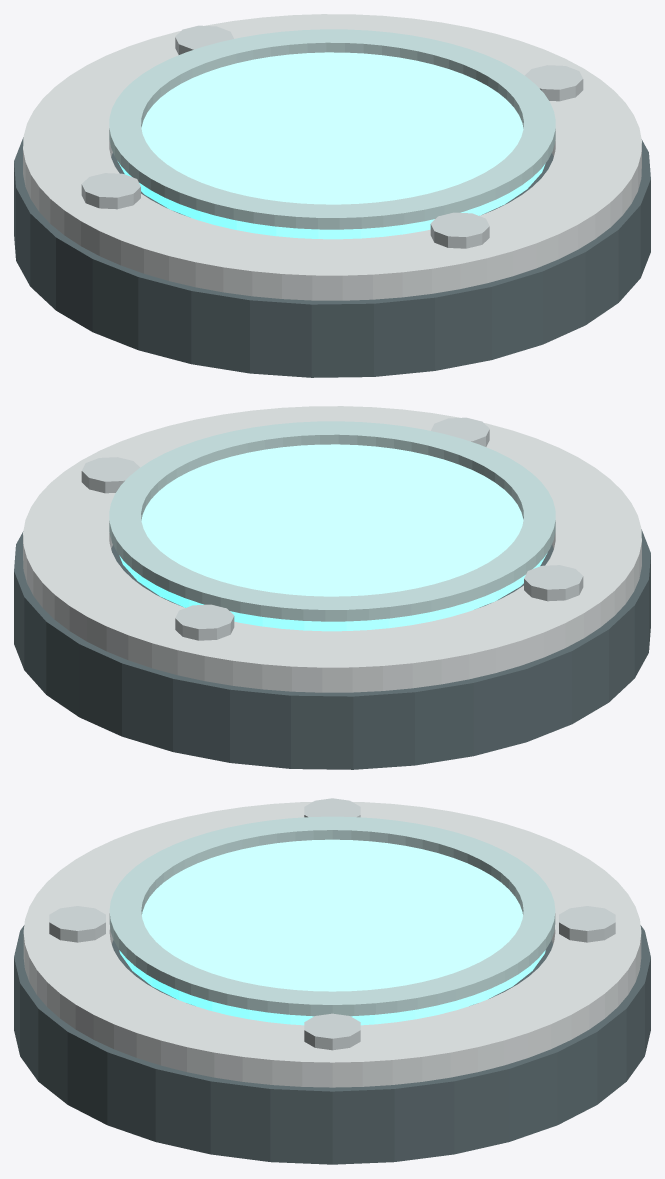
The model's file is s7-lf2-recessed-puck-small.glb.
3 renders of one model, top to bottom at view 1: azimuth 30°, elevation 25°; view 2: azimuth 150°, elevation 25°; view 3: azimuth 270°, elevation 25°, orthographic.
Visible parts, largest first — view 1: 001_annular_chrome_recess, 000_embedded_lowprofile_chassis, 002_top_emitter_glow, 003_diffuser_rim, 006_flush_mount_screw, 005_flush_mount_screw, 004_flush_mount_screw, 007_flush_mount_screw; view 2: 001_annular_chrome_recess, 000_embedded_lowprofile_chassis, 002_top_emitter_glow, 003_diffuser_rim, 006_flush_mount_screw, 007_flush_mount_screw, 004_flush_mount_screw, 005_flush_mount_screw; view 3: 001_annular_chrome_recess, 000_embedded_lowprofile_chassis, 002_top_emitter_glow, 003_diffuser_rim, 004_flush_mount_screw, 005_flush_mount_screw, 007_flush_mount_screw, 006_flush_mount_screw.
Boxes of the visible parts, <box> form: 001_annular_chrome_recess: <box>23,14,641,300</box>; 000_embedded_lowprofile_chassis: <box>14,137,650,377</box>; 002_top_emitter_glow: <box>117,52,545,239</box>; 003_diffuser_rim: <box>109,29,555,229</box>; 006_flush_mount_screw: <box>81,173,140,209</box>; 005_flush_mount_screw: <box>430,212,489,248</box>; 004_flush_mount_screw: <box>525,65,583,101</box>; 007_flush_mount_screw: <box>175,25,233,54</box>; 001_annular_chrome_recess: <box>23,406,641,692</box>; 000_embedded_lowprofile_chassis: <box>14,529,650,769</box>; 002_top_emitter_glow: <box>119,444,547,631</box>; 003_diffuser_rim: <box>109,421,555,621</box>; 006_flush_mount_screw: <box>524,565,583,601</box>; 007_flush_mount_screw: <box>175,604,234,640</box>; 004_flush_mount_screw: <box>81,457,139,493</box>; 005_flush_mount_screw: <box>431,417,489,446</box>; 001_annular_chrome_recess: <box>23,802,641,1087</box>; 000_embedded_lowprofile_chassis: <box>14,925,650,1164</box>; 002_top_emitter_glow: <box>119,839,545,1025</box>; 003_diffuser_rim: <box>109,816,555,1016</box>; 004_flush_mount_screw: <box>304,1013,360,1050</box>; 005_flush_mount_screw: <box>49,906,105,942</box>; 007_flush_mount_screw: <box>559,906,615,942</box>; 006_flush_mount_screw: <box>304,798,360,817</box>.
Size of the model in its own units: 0.15 by 0.031 by 0.15.
